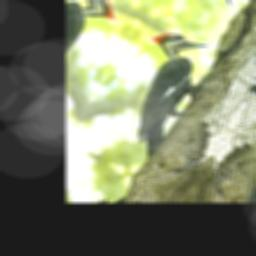Woodpecker: (95, 21, 221, 162)
